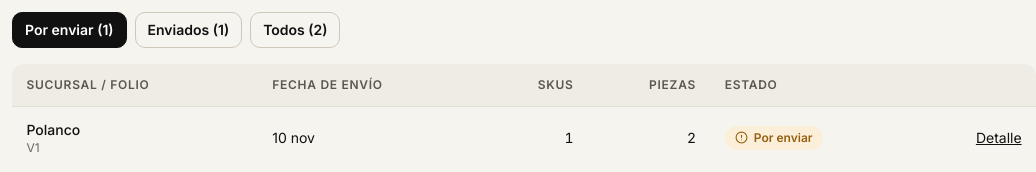
Test: pantalla Envíos › por omisión muestra lo por enviar; la pestaña Enviados cambia la lista
The width and height of the screenshot is (1036, 172).
Expected: the text "V1" is shown, [26,140,40,155]
Expected: the text "V2" is not shown
Click the button "Enviados (1)" at (188, 30), box [134,12,242,48]
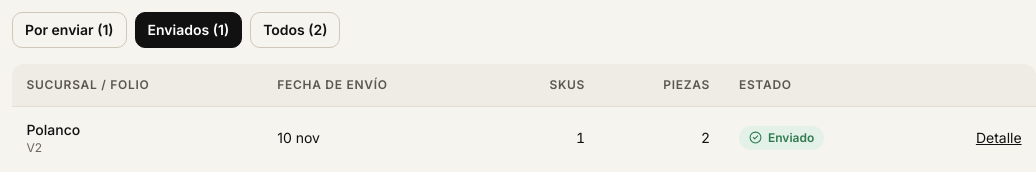
Now the text "V2" is shown, box [26,140,42,155]
